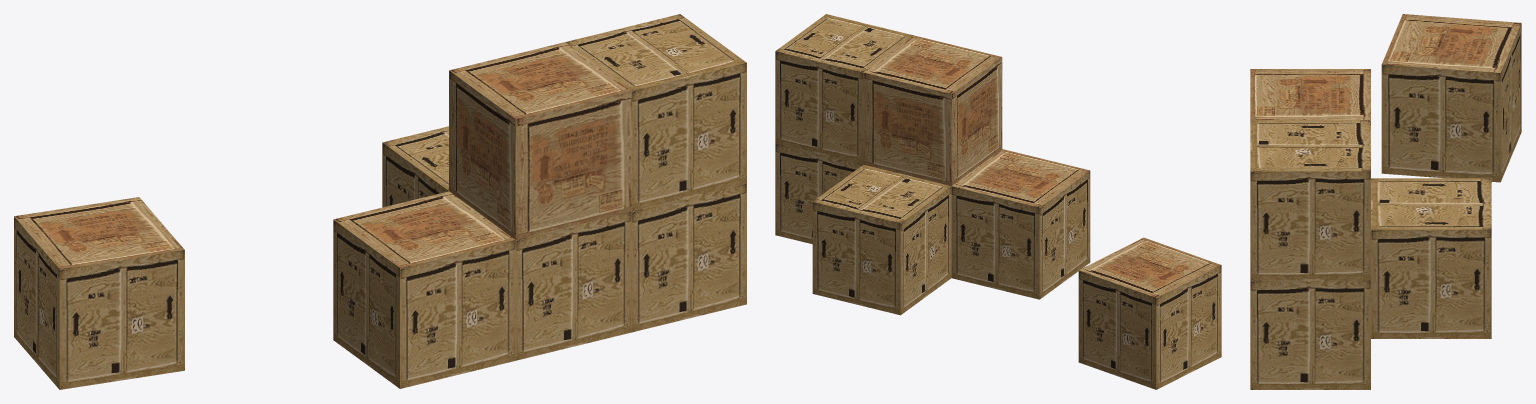
File: crates.obj
3 views of the same model, side by side, from view 1: azimuth 30°, elevation 25°; view 2: azimuth 150°, elevation 25°; view 3: azimuth 270°, elevation 25° (orthographic). The views are drawn at different scales.
Parts seen in each view (by area): view 1: crates; view 2: crates; view 3: crates.
Part boxes in pixels (x1,y1,x2,y2): crates: (14, 14, 746, 389); crates: (775, 14, 1221, 389); crates: (1250, 14, 1521, 389).
Size of the model in its own units: 10.45 by 4 by 4.49.
Materials: 2 (2 with a texture image).
